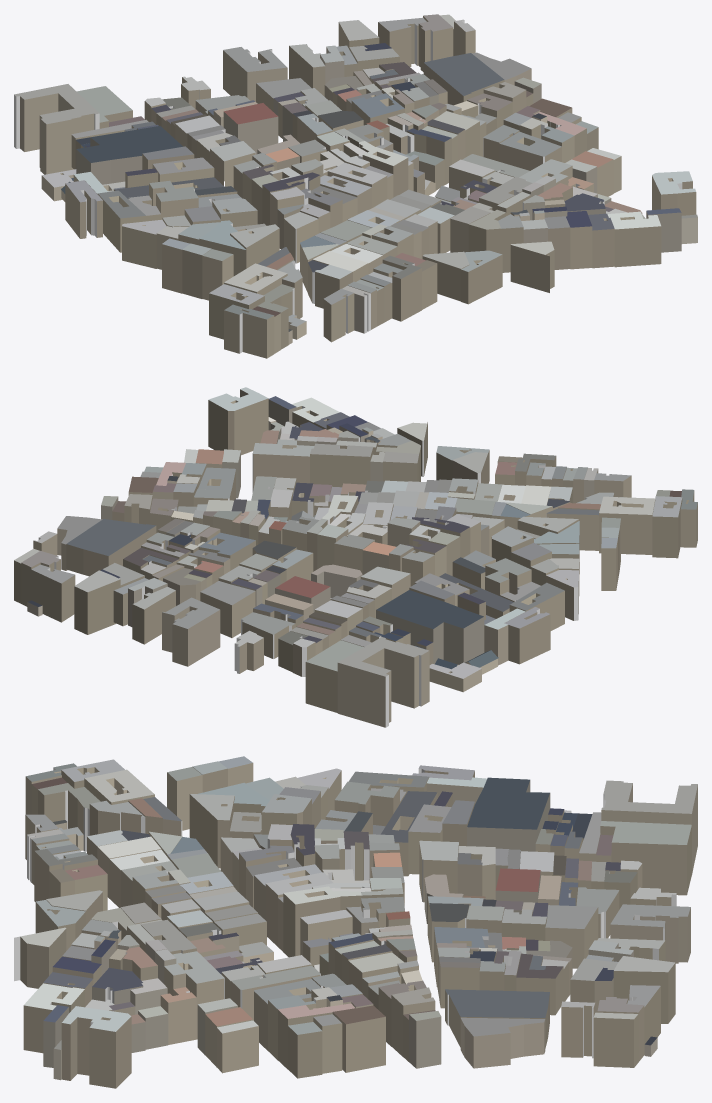
3 renders of one model, top to bottom at view 1: azimuth 30°, elevation 25°; view 2: azimuth 150°, elevation 25°; view 3: azimuth 270°, elevation 25°, orthographic. The views are drawn at different scales.
Visible parts, largest first — view 1: tuile; view 2: tuile; view 3: tuile.
Boxes of the visible parts, <box> form: tuile: <box>14,14,697,358</box>; tuile: <box>14,387,697,727</box>; tuile: <box>14,756,697,1088</box>.
Bounding box in the file's own units: 270 × 33.32 × 280.
